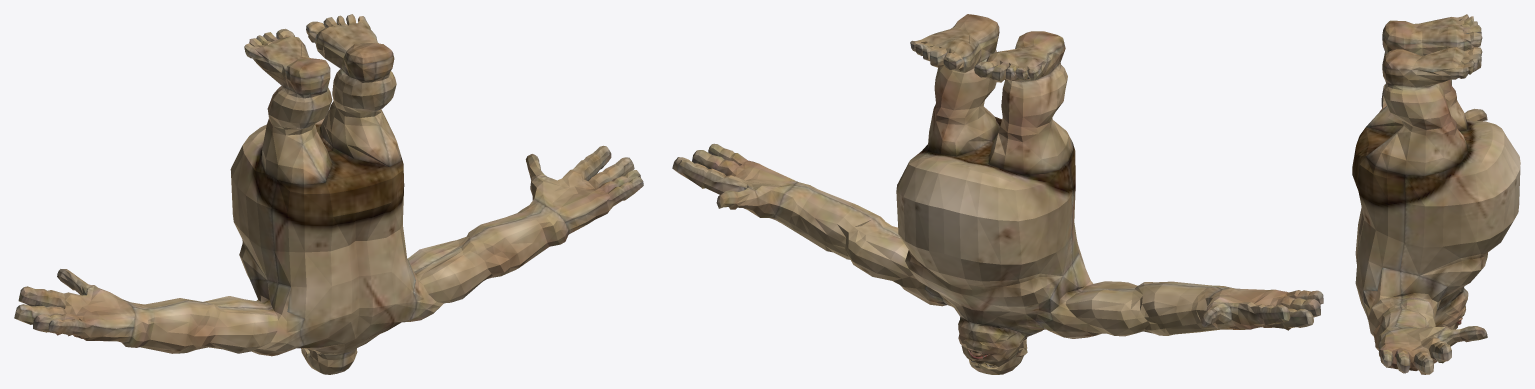
The model's file is ogre.glb.
The picture shows the model from 3 angles, left to right: view 1: azimuth 30°, elevation 25°; view 2: azimuth 150°, elevation 25°; view 3: azimuth 270°, elevation 25°; orthographic projection. The views are drawn at different scales.
Parts seen in each view (by area): view 1: ogre.obj; view 2: ogre.obj; view 3: ogre.obj.
Part boxes in pixels (x1,y1,x2,y2): ogre.obj: (14, 14, 643, 374); ogre.obj: (672, 14, 1323, 374); ogre.obj: (1352, 14, 1520, 374).
Bounding box in the file's own units: 1 × 0.5006 × 0.2474.
Materials: 1 (1 with a texture image).
